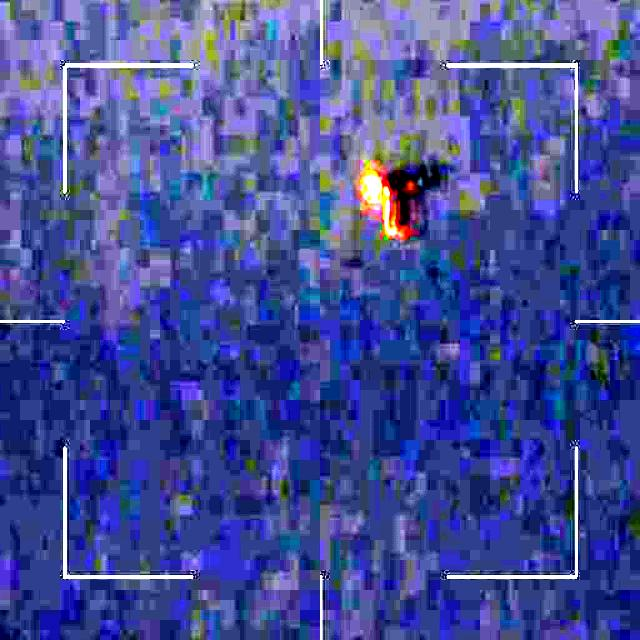bird: (354, 159, 444, 254)
